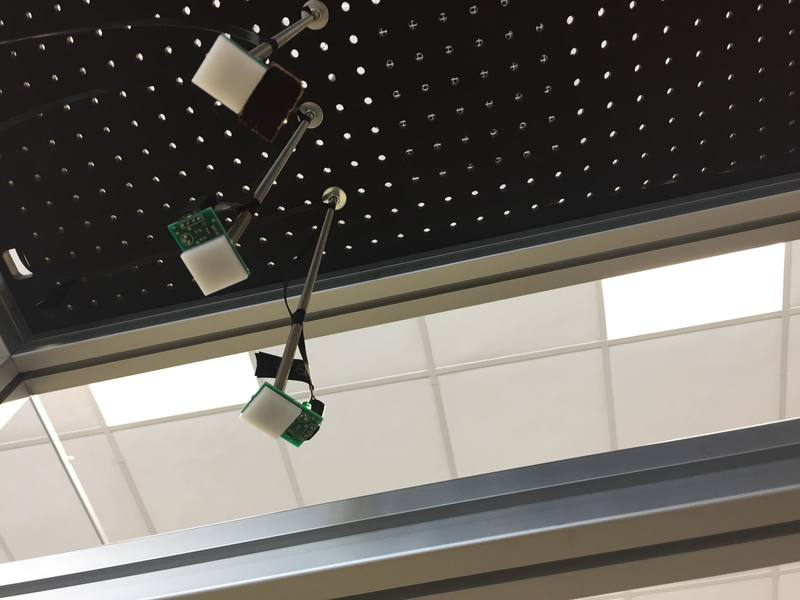target: (187, 33, 273, 117), (177, 235, 250, 300), (242, 387, 301, 442)
